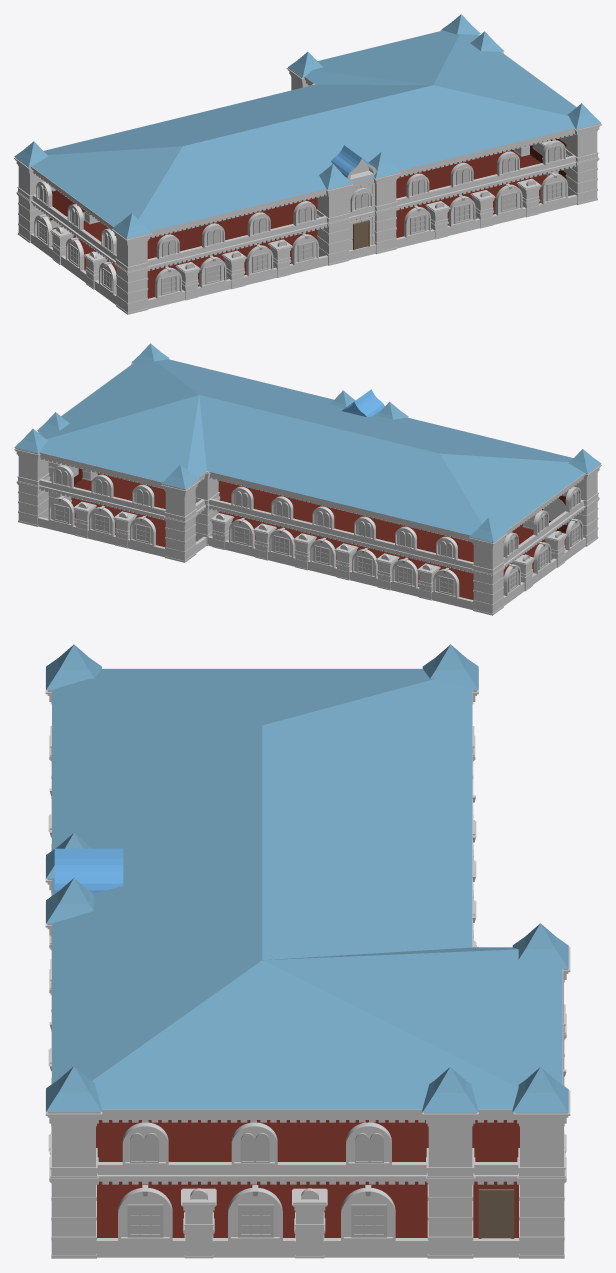
File: Typography.glb
3 views of the same model, one above another, from view 1: azimuth 30°, elevation 25°; view 2: azimuth 150°, elevation 25°; view 3: azimuth 270°, elevation 25° (orthographic). The views are drawn at different scales.
Parts seen in each view (by area): view 1: Cube.082, piliastra.008, Cube.030, Plane, Cube.056, Cube.031, rama.011, Cylinder, karniz.001, Cube.054, rama.010; view 2: Cube.082, piliastra.008, Cube.039, Plane, Cube.040, rama.012, Cube.031, rama.020, rama.011, karniz.001, Cylinder, Cube.030; view 3: Cube.082, piliastra.008, Plane, Cube.043, rama.023, Cylinder, rama.024.
Boxes of the visible parts, x1,y1,x2,y2 form: Cube.082: (14, 14, 600, 238); piliastra.008: (14, 29, 601, 314); Cube.030: (155, 140, 567, 300); Plane: (49, 138, 566, 298); Cube.056: (161, 145, 563, 295); Cube.031: (34, 181, 116, 294); rama.011: (37, 185, 112, 291); Cylinder: (331, 145, 376, 181); karniz.001: (32, 79, 575, 233); Cube.054: (348, 182, 374, 250); rama.010: (352, 220, 369, 250); Cube.082: (14, 343, 601, 542); piliastra.008: (14, 359, 601, 615); Cube.039: (210, 486, 459, 600); Plane: (71, 467, 567, 599); Cube.040: (48, 465, 155, 548); rama.012: (233, 491, 454, 595); Cube.031: (503, 486, 582, 595); rama.020: (53, 469, 150, 543); rama.011: (507, 490, 579, 592); karniz.001: (40, 454, 583, 537); Cylinder: (342, 389, 384, 416); Cube.030: (522, 498, 566, 529); Cube.082: (46, 644, 568, 1112); piliastra.008: (45, 668, 570, 1258); Plane: (96, 1120, 519, 1237); Cube.043: (118, 1122, 395, 1258); rama.023: (127, 1133, 386, 1237); Cylinder: (54, 848, 123, 893); rama.024: (478, 1189, 514, 1238).
Bounding box in the file's own units: 5.78 × 1.18 × 2.87.
